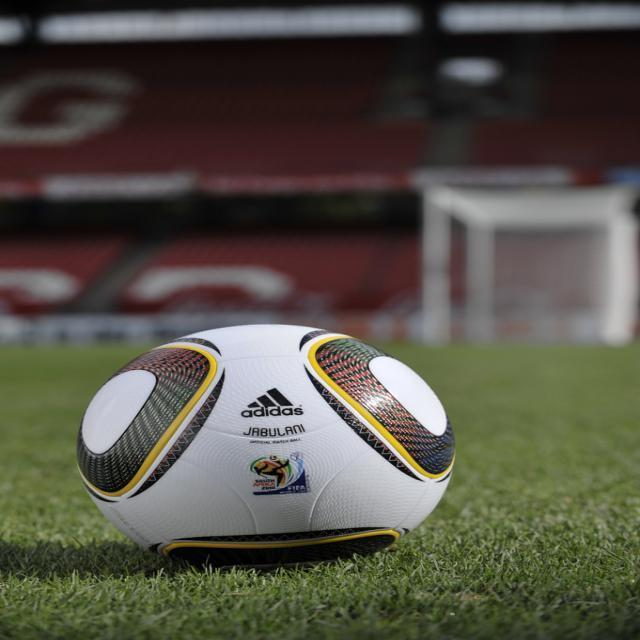football: (39, 302, 480, 591)
